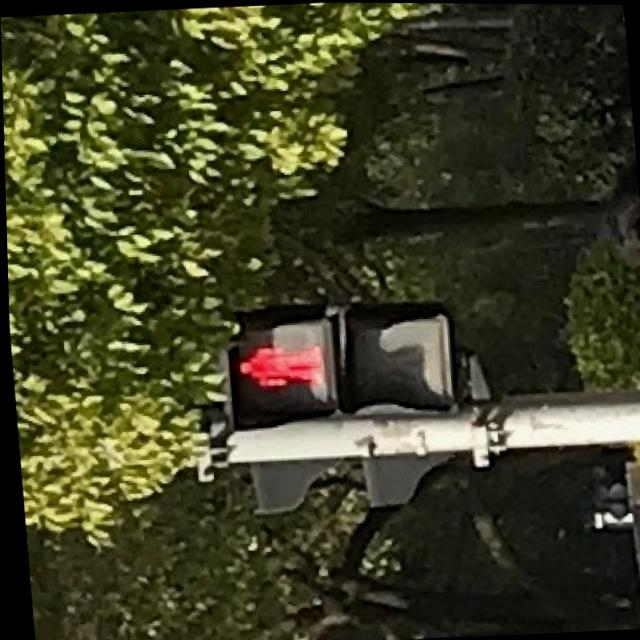red_light: (221, 319, 327, 407)
